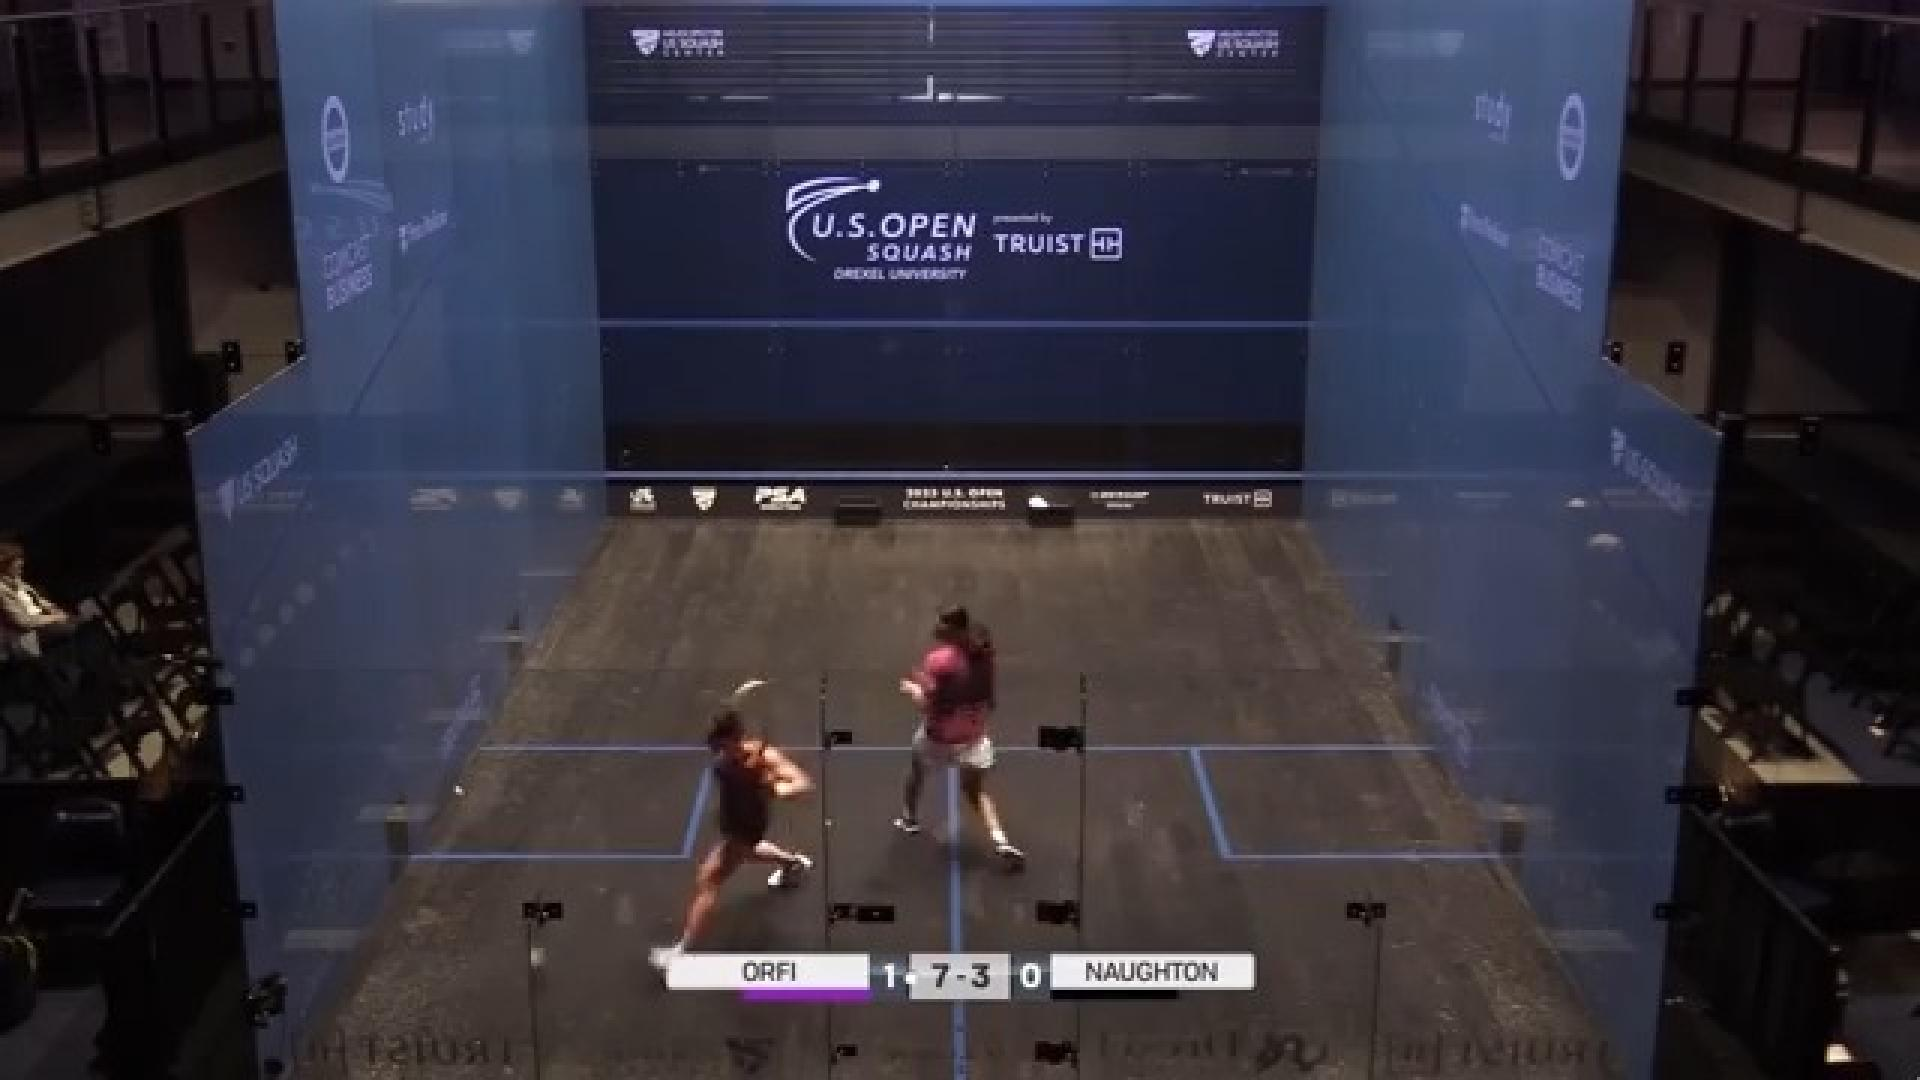Squash-Ball: (427, 744, 489, 833)
